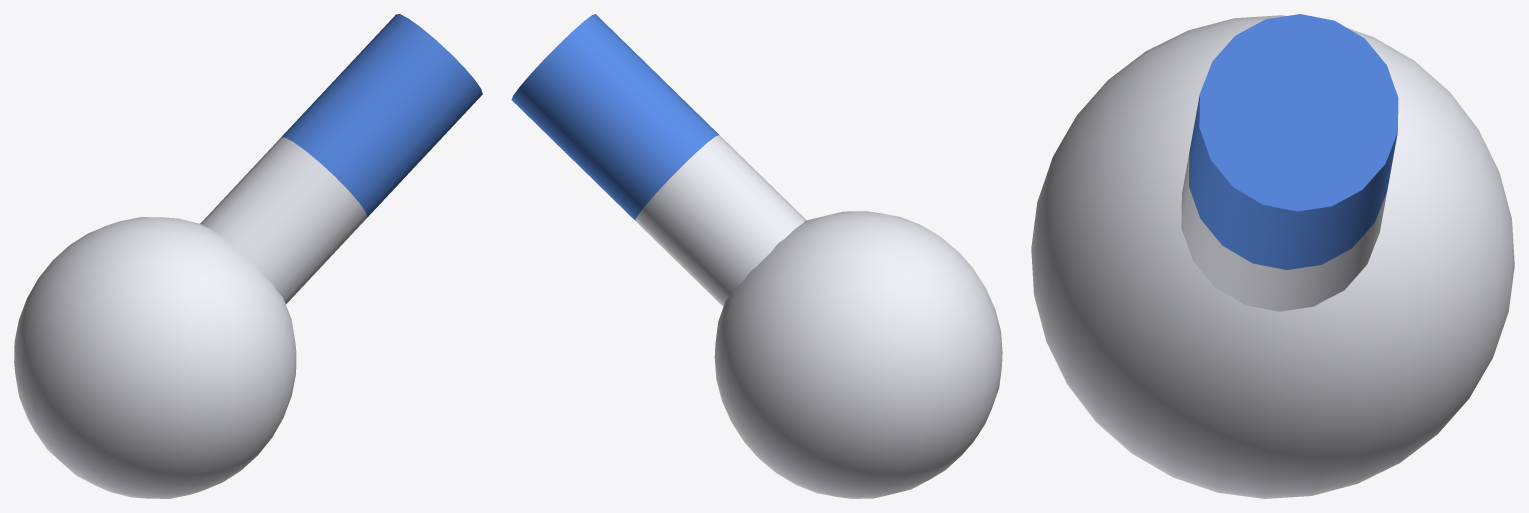
3 renders of one model, left to right at view 1: azimuth 30°, elevation 25°; view 2: azimuth 150°, elevation 25°; view 3: azimuth 270°, elevation 25°, orthographic. The views are drawn at different scales.
Visible parts, largest first — view 1: 对象005; view 2: 对象005; view 3: 对象005.
Boxes of the visible parts, x1,y1,x2,y2 form: 对象005: (14, 14, 482, 498); 对象005: (511, 14, 1002, 498); 对象005: (1031, 14, 1514, 498).
Bounding box in the file's own units: 21.75 × 18.6 × 11.99.
Materials: 1 (1 with a texture image).
